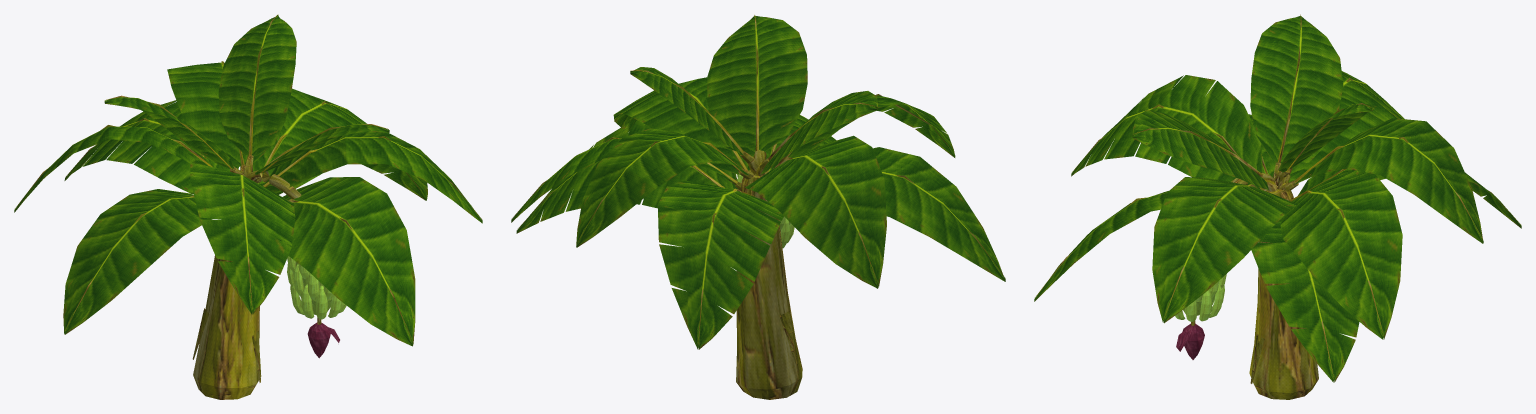
The model's file is Bananeira-03-Larga.glb.
The picture shows the model from 3 angles, left to right: view 1: azimuth 30°, elevation 25°; view 2: azimuth 150°, elevation 25°; view 3: azimuth 270°, elevation 25°; orthographic projection. The views are drawn at different scales.
Parts seen in each view (by area): view 1: Planta/Folha 2, Planta/Folha 3, Planta/Folha 7, Planta/Folha 12, Planta/Caule, Planta/Folha 6, Planta/Folha 4, Planta/Folha 9, Planta/Folha 5, Planta/Folha 8, Cacho/Cacho - pencas, Planta/Folha 11 (+5 smaller); view 2: Planta/Folha 4, Planta/Folha 8, Planta/Folha 10, Planta/Caule, Planta/Folha 9, Planta/Folha 3, Planta/Folha 1, Planta/Folha 6, Planta/Folha 11, Planta/Folha 7, Planta/Folha 12, Planta/Folha 5; view 3: Planta/Folha 5, Planta/Folha 6, Planta/Folha 11, Planta/Folha 9, Planta/Folha 7, Planta/Folha 1, Planta/Caule, Planta/Folha 10, Planta/Folha 8, Planta/Folha 2, Planta/Folha 12, Cacho/Cacho - pencas (+2 smaller).
Part boxes in pixels (x1,y1,x2,y2): Planta/Folha 2: [271, 177, 415, 346]; Planta/Folha 3: [63, 189, 213, 334]; Planta/Folha 7: [190, 162, 295, 314]; Planta/Folha 12: [218, 15, 296, 156]; Planta/Caule: [193, 183, 261, 399]; Planta/Folha 6: [264, 132, 482, 223]; Planta/Folha 4: [64, 100, 238, 193]; Planta/Folha 9: [167, 62, 270, 167]; Planta/Folha 5: [252, 88, 367, 188]; Planta/Folha 8: [14, 126, 213, 212]; Cacho/Cacho - pencas: [287, 256, 346, 319]; Planta/Folha 11: [104, 97, 233, 168]; Planta/Folha 4: [657, 180, 783, 349]; Planta/Folha 8: [745, 135, 886, 288]; Planta/Folha 10: [707, 15, 807, 155]; Planta/Caule: [736, 170, 802, 399]; Planta/Folha 9: [576, 128, 749, 247]; Planta/Folha 3: [873, 147, 1005, 281]; Planta/Folha 1: [516, 119, 738, 233]; Planta/Folha 6: [613, 77, 753, 174]; Planta/Folha 11: [760, 91, 878, 174]; Planta/Folha 7: [771, 95, 955, 169]; Planta/Folha 12: [630, 67, 743, 155]; Planta/Folha 5: [511, 138, 735, 222]; Planta/Folha 5: [1280, 170, 1402, 339]; Planta/Folha 6: [1152, 177, 1297, 323]; Planta/Folha 11: [1250, 16, 1343, 164]; Planta/Folha 9: [1293, 118, 1483, 243]; Planta/Folha 7: [1071, 75, 1262, 187]; Planta/Folha 1: [1251, 220, 1359, 382]; Planta/Caule: [1249, 182, 1318, 399]; Planta/Folha 10: [1132, 110, 1268, 189]; Planta/Folha 8: [1275, 71, 1404, 178]; Planta/Folha 2: [1034, 191, 1168, 301]; Planta/Folha 12: [1278, 104, 1376, 172]; Cacho/Cacho - pencas: [1175, 274, 1226, 321].
Bounding box in the file's own units: 4.68 × 3.4 × 4.58.
4 materials, 4 textured.
